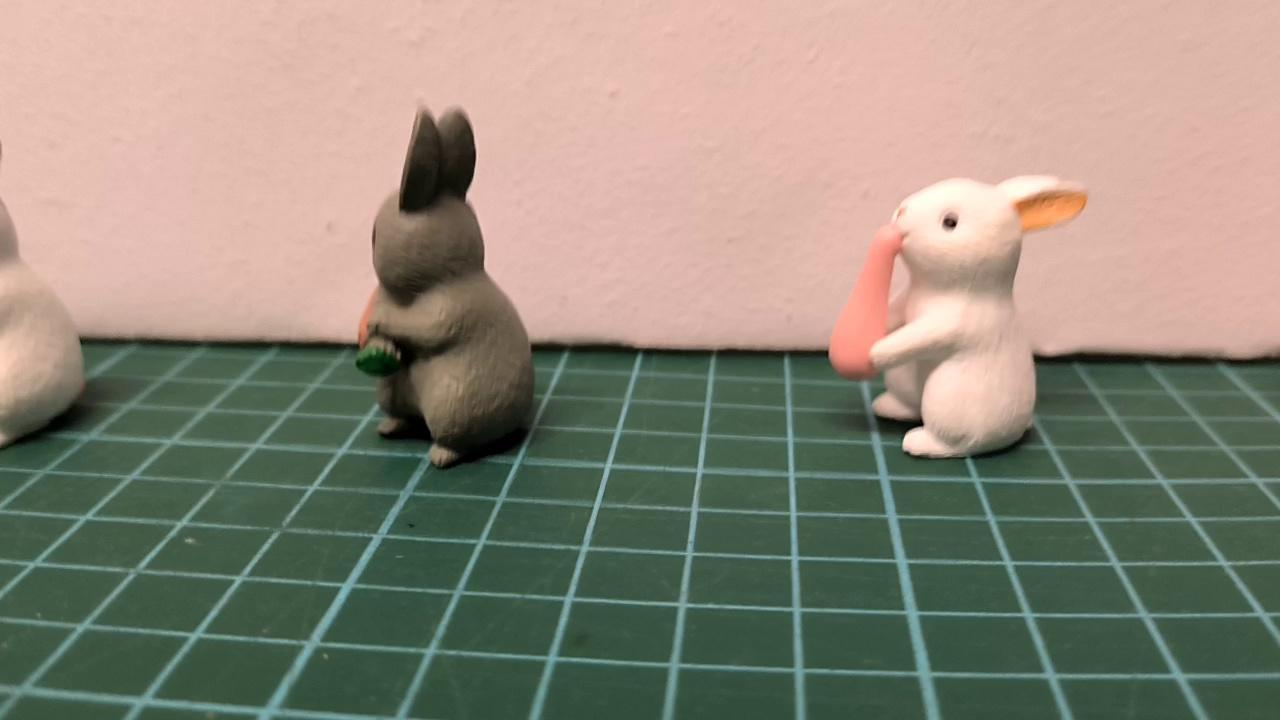pet: (359, 103, 536, 469), (867, 174, 1088, 459), (0, 197, 90, 447)
